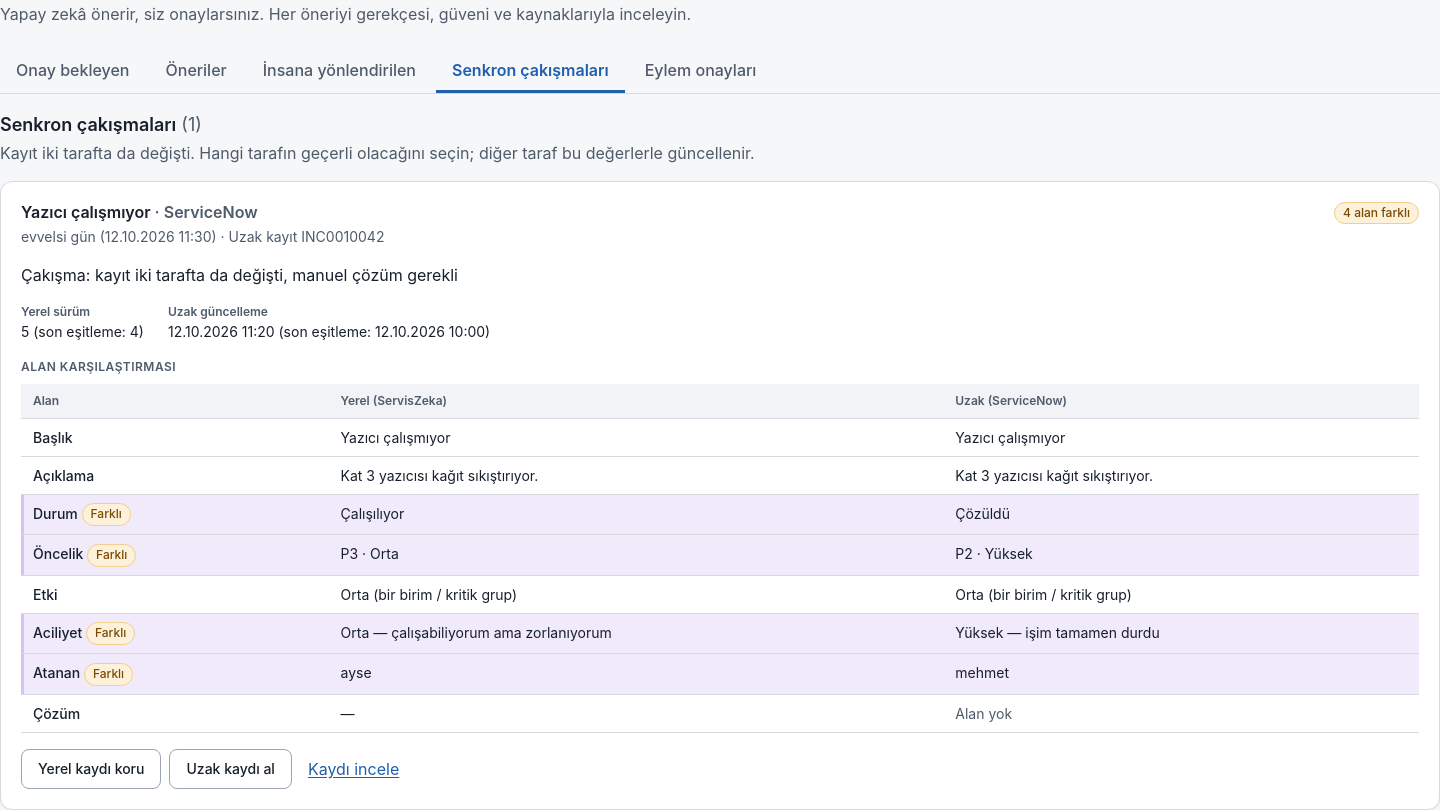
ApprovalsPage — senkron çakışmaları › uzak kaydı al: winner=remote; 502 bağlayıcı hatasını açıklar
(page scrolled)
Click the button "Uzak kaydı al".
click(231, 769)  # box x1=170 y1=749 x2=292 y2=789
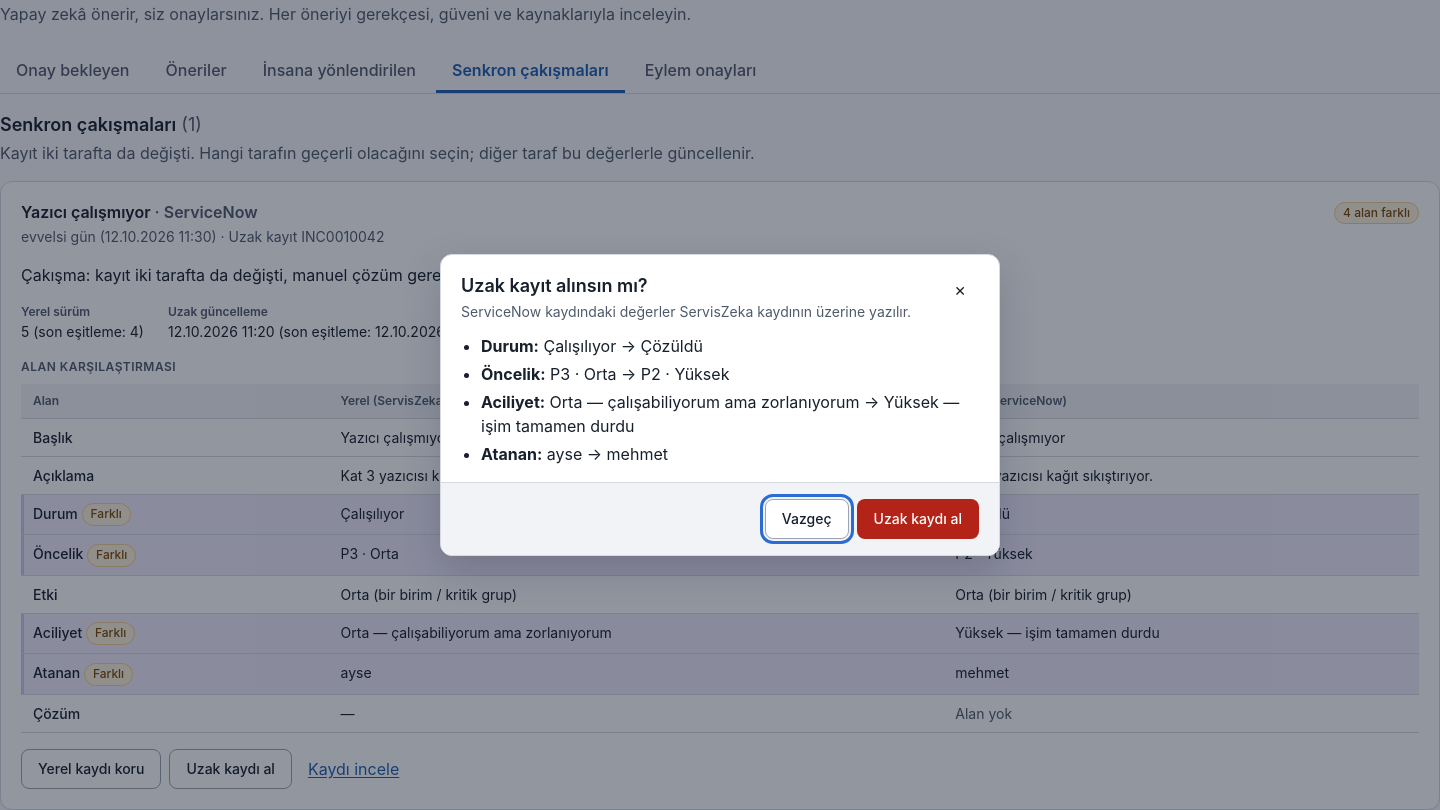
Expected: the dialog "Uzak kayıt alınsın mı?" is shown, x1=440 y1=254 x2=1000 y2=556
Click the button "Uzak kaydı al".
click(918, 519)  # box x1=857 y1=499 x2=979 y2=539
(page scrolled)
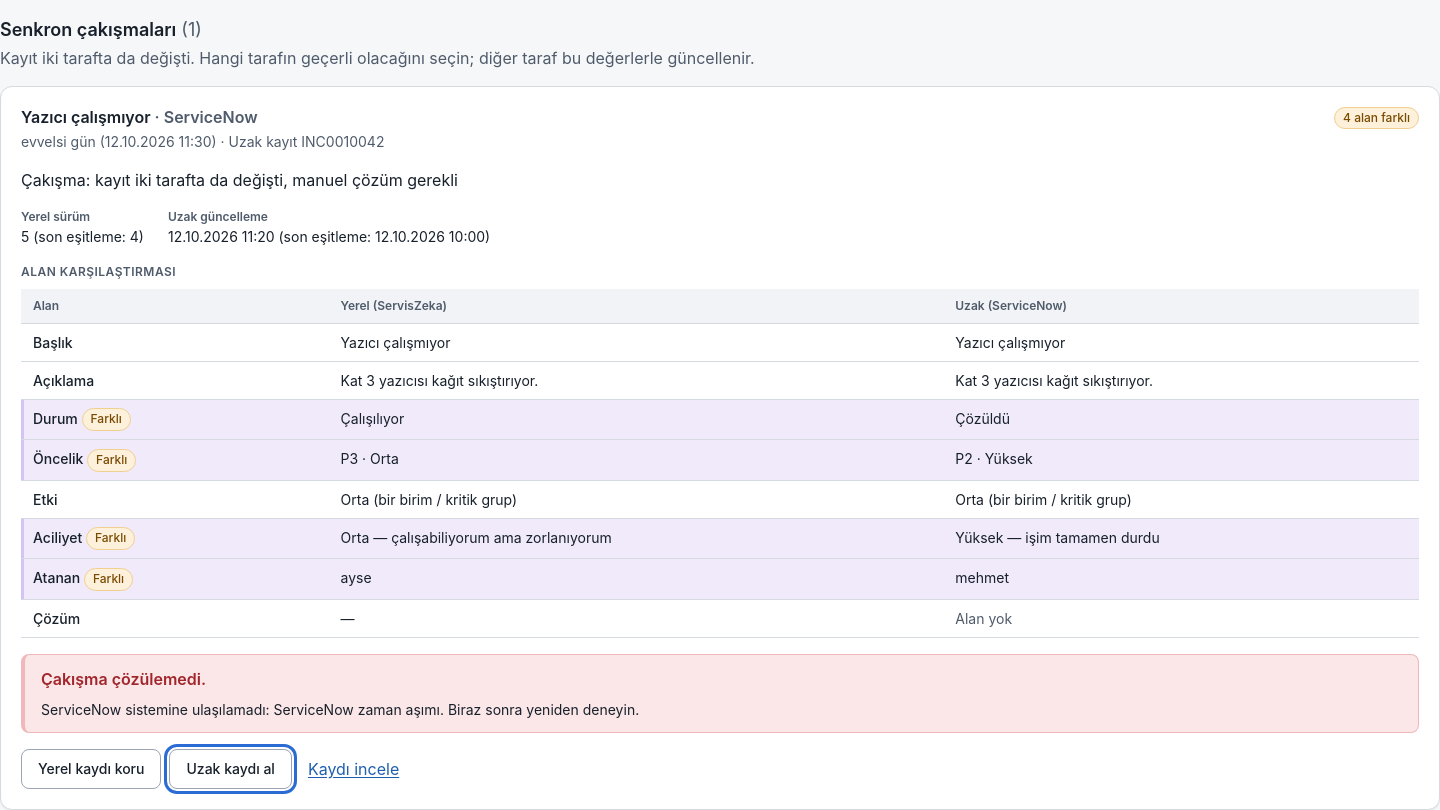
Expected: the message shows "ServiceNow sistemine ulaşılamadı: ServiceNow zaman aşımı", x1=41 y1=701 x2=639 y2=718
